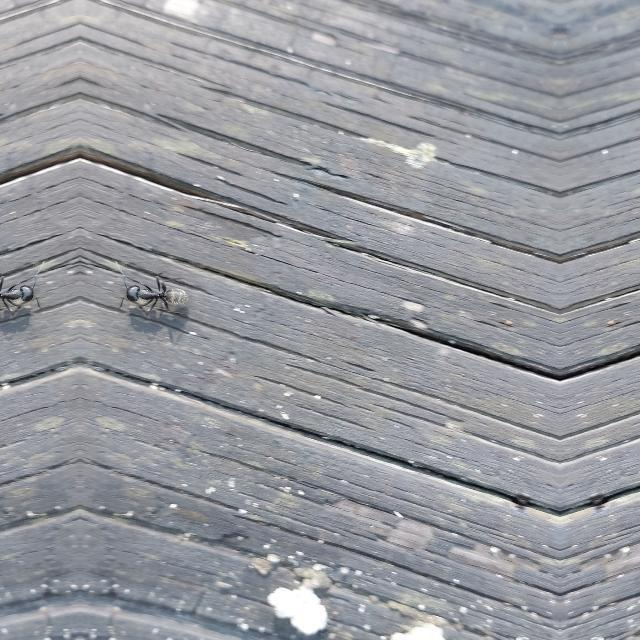Camponotus: (108, 261, 196, 321), (0, 261, 52, 321)
